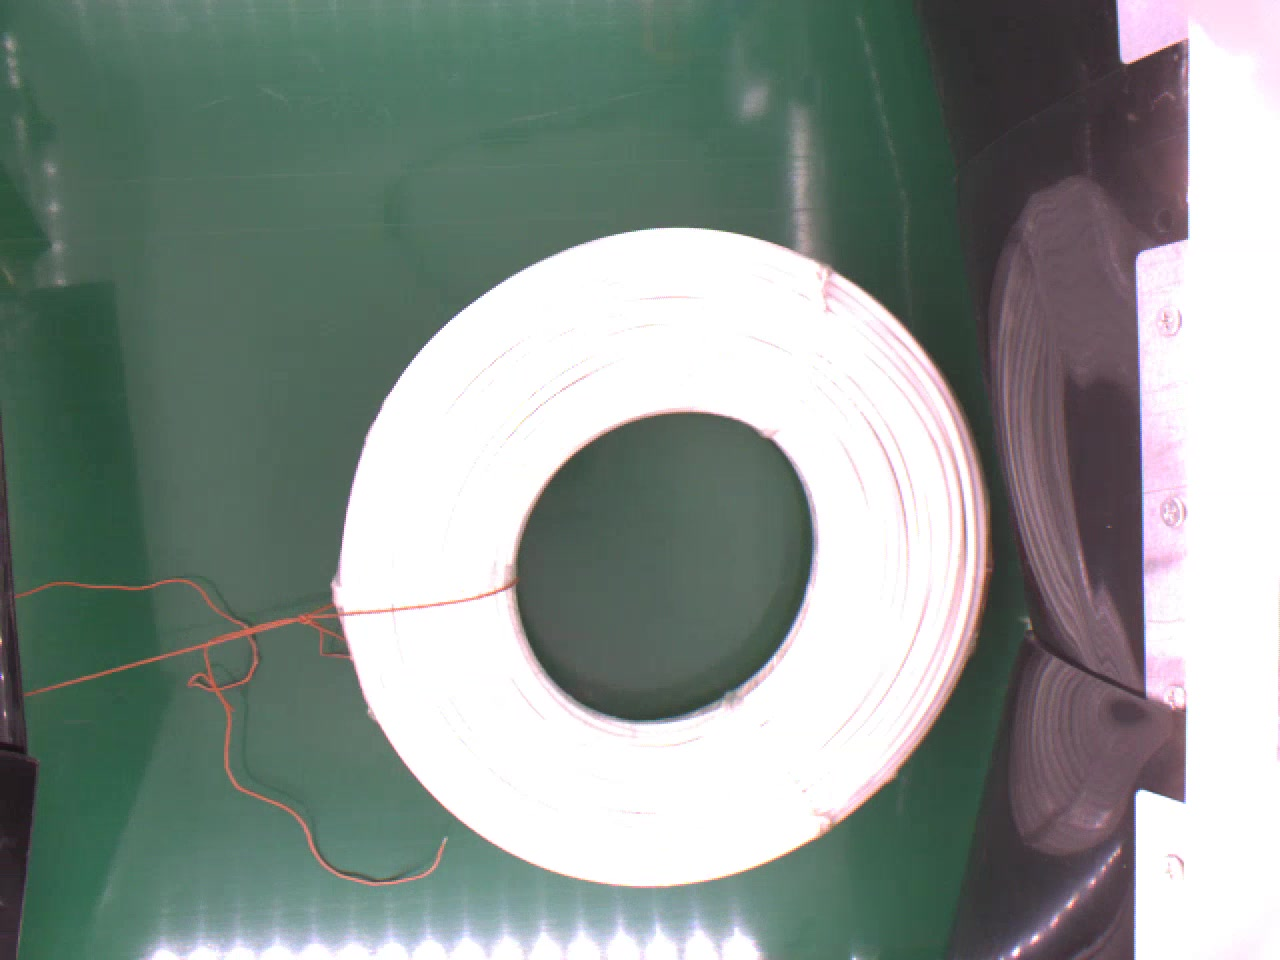white: (325, 218, 991, 897)
